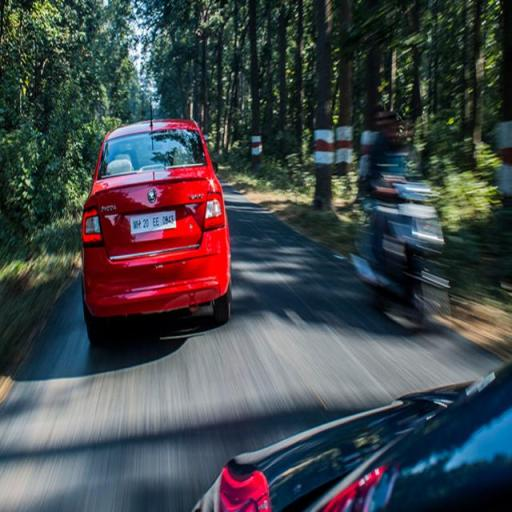number plate: (128, 212, 180, 233)
